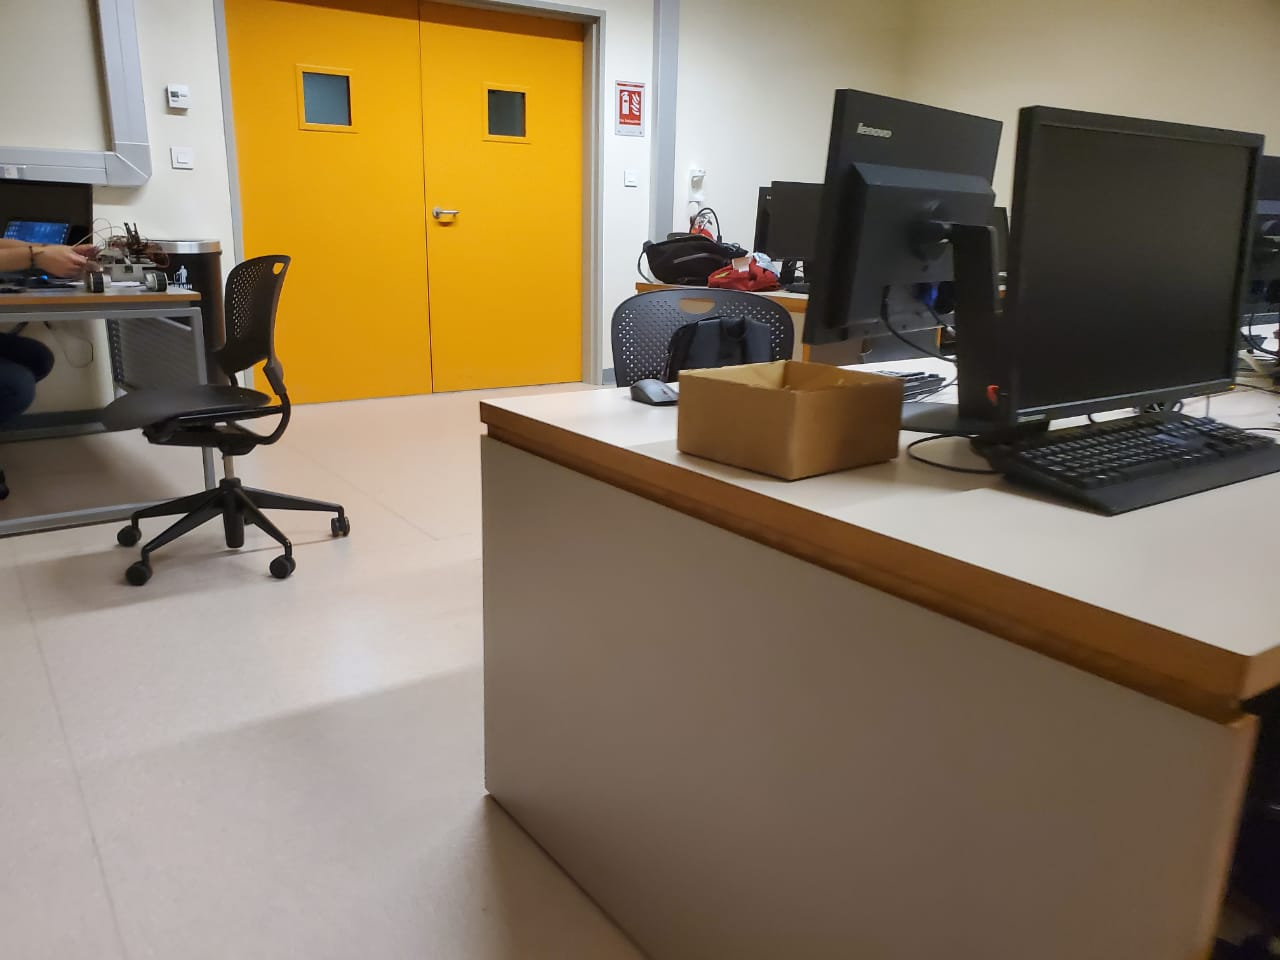CBox: (673, 353, 911, 487)
